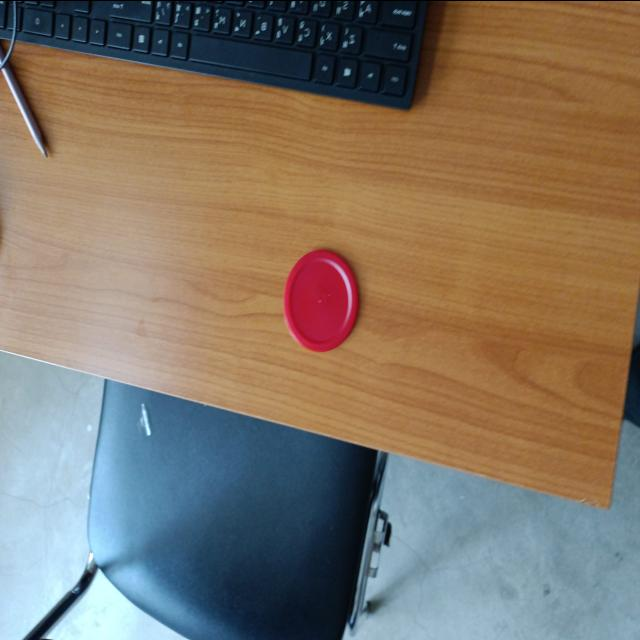chip: (282, 247, 360, 355)
